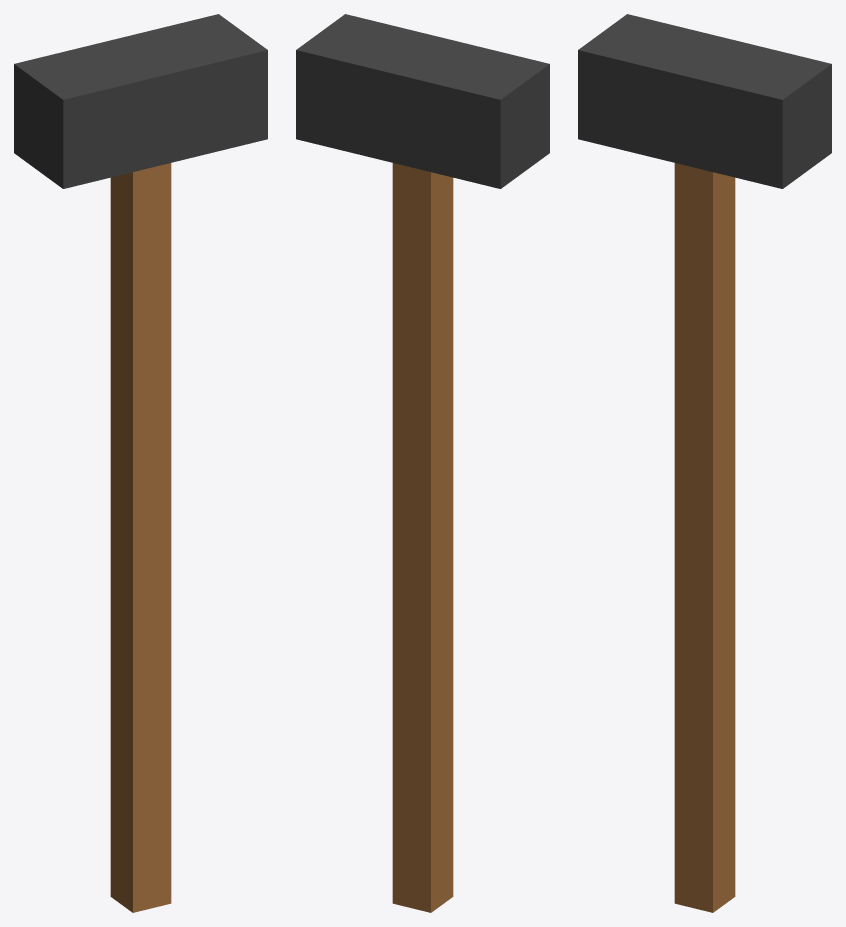
Rendered from Tool_Sledgehammer.fbx.
3 views of the same model, side by side, from view 1: azimuth 30°, elevation 25°; view 2: azimuth 150°, elevation 25°; view 3: azimuth 330°, elevation 25° (orthographic).
Visible parts, largest first — view 1: Tool_Sledgehammer; view 2: Tool_Sledgehammer; view 3: Tool_Sledgehammer.
Part boxes in pixels (x1,y1,x2,y2): Tool_Sledgehammer: [14, 14, 267, 912]; Tool_Sledgehammer: [296, 14, 549, 912]; Tool_Sledgehammer: [578, 14, 831, 912].
Bounding box in the file's own units: 0.24 × 0.945 × 0.1.
